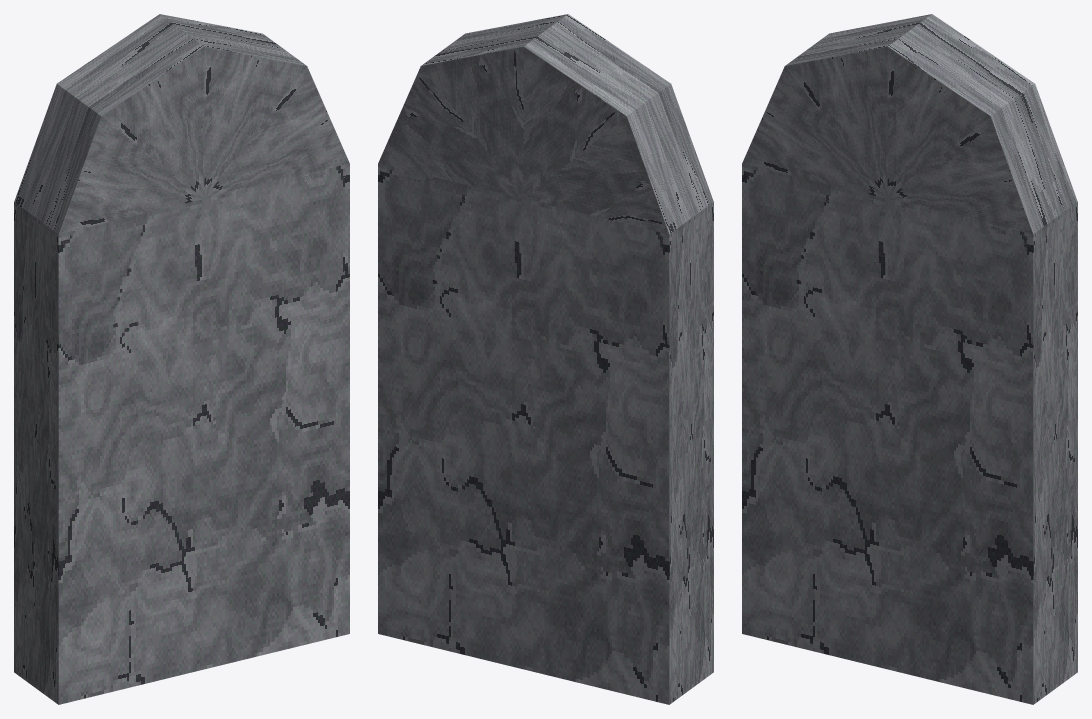
Rendered from lapide.glb.
3 renders of one model, left to right at view 1: azimuth 30°, elevation 25°; view 2: azimuth 150°, elevation 25°; view 3: azimuth 330°, elevation 25°, orthographic.
Parts seen in each view (by area): view 1: lapide; view 2: lapide; view 3: lapide.
Part boxes in pixels (x1,y1,x2,y2): lapide: (14,14,349,704); lapide: (378,14,713,704); lapide: (742,14,1077,704).
Size of the model in its own units: 0.68 by 1.39 by 0.18.
Materials: 1 (1 with a texture image).
